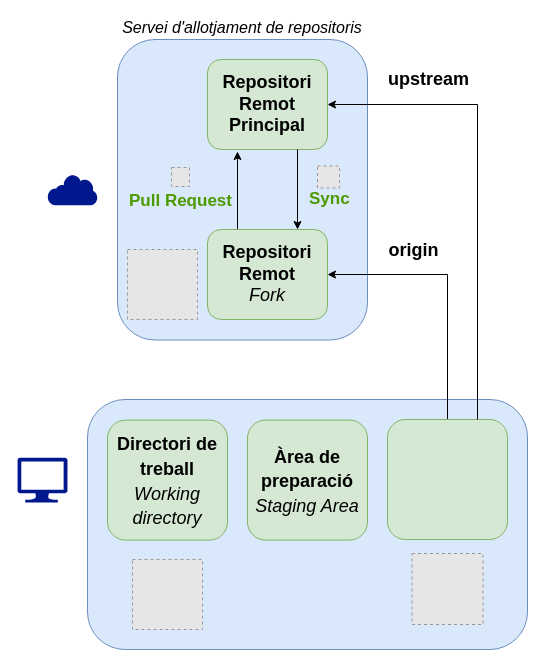
The diagram is 545 pixels wide and 667 high, and some of its shapes have lost their labels. Grey dashed boxes stand in for pictures. The shapes that lost their labels are listed below. From the top down, each one's box as (x1, y1, x2, y2) in pixels, then its label:
(386, 418, 508, 540): Repositori local Local Repository
(86, 398, 528, 650): Local - Entorn de desenvolupament
